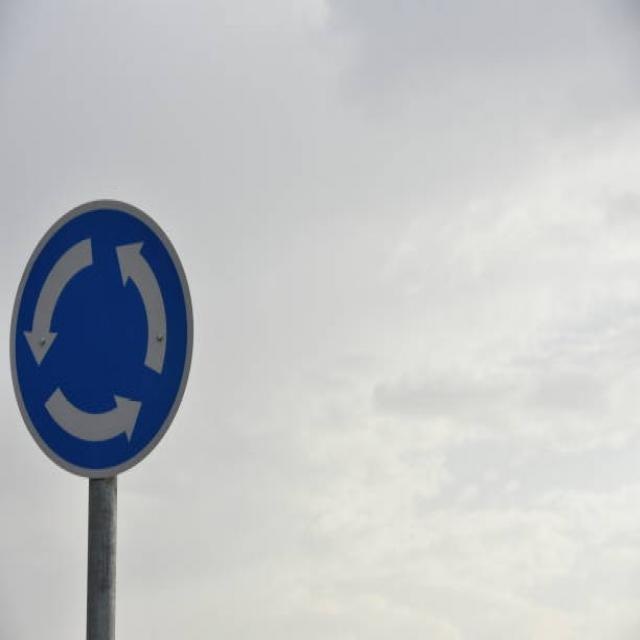round_about: (4, 198, 200, 481)
